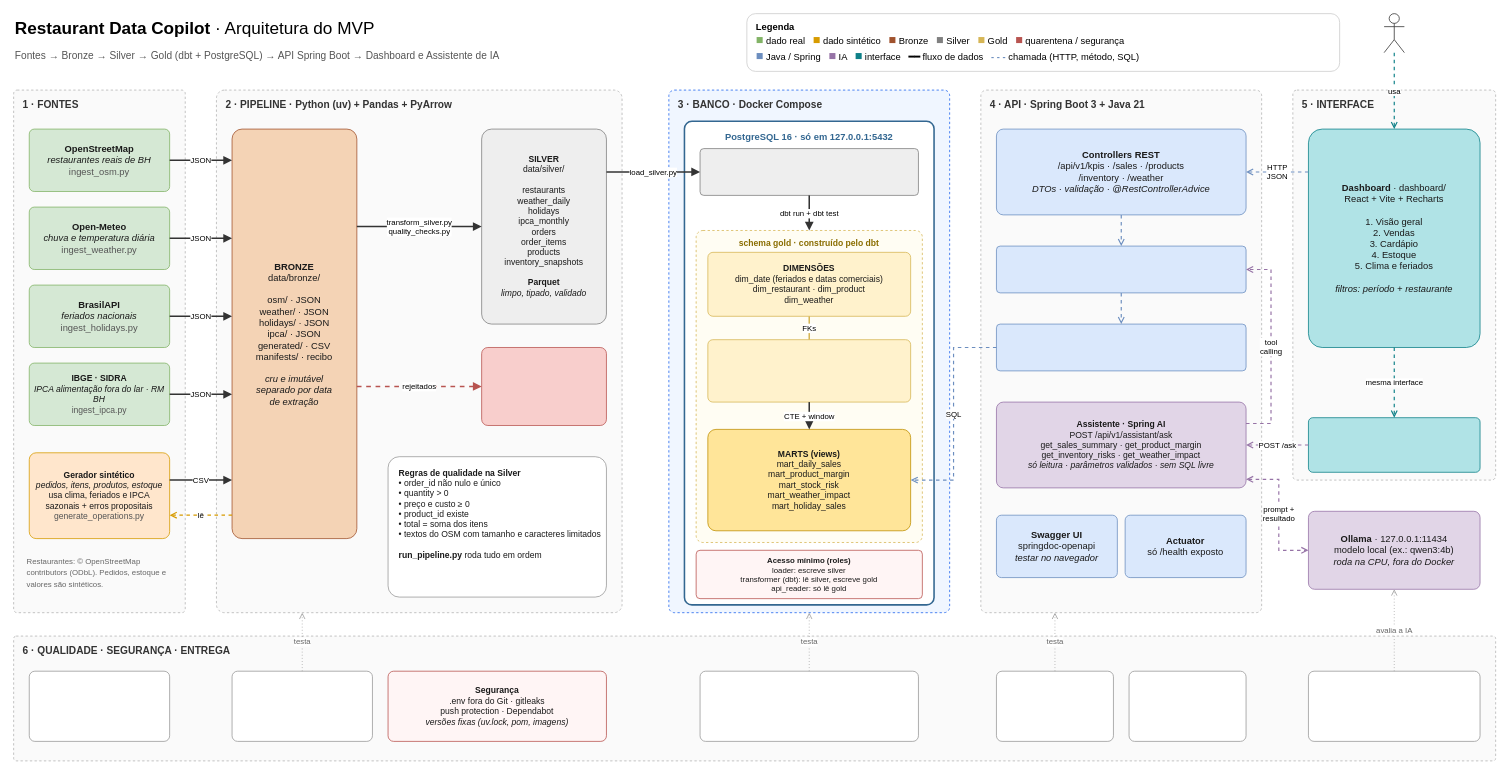
Image size: 1509x775. Some labels were removed from this diagram. Each missing label, with the centre of its shape:
Aba Assistente resposta exibida como texto puro: point 1394,444
ai/evals 10 perguntas com gabarito mede os acertos da IA: point 1394,705
dbt test unique · not_null · relationships + testes SQL de regra de negócio: point 808,705
docs/ + dbt docs README · DER · decisões linhagem automática: point 99,705
FATOS fact_orders · fact_order_items fact_inventory_snapshots: point 809,370
Gestor: point 1393,33
GitHub Actions CI a cada push: point 1187,705
JUnit + Mockito service e controller: point 1054,705
pytest testa o pipeline Python: point 301,705
QUARENTENA data/quarantine/ rejeitados + motivo: point 543,386
Repositories só leem o schema gold (api_reader): point 1121,347
schema silver cópia 1:1 dos Parquet: point 808,171
Services regras de negócio: point 1121,269
